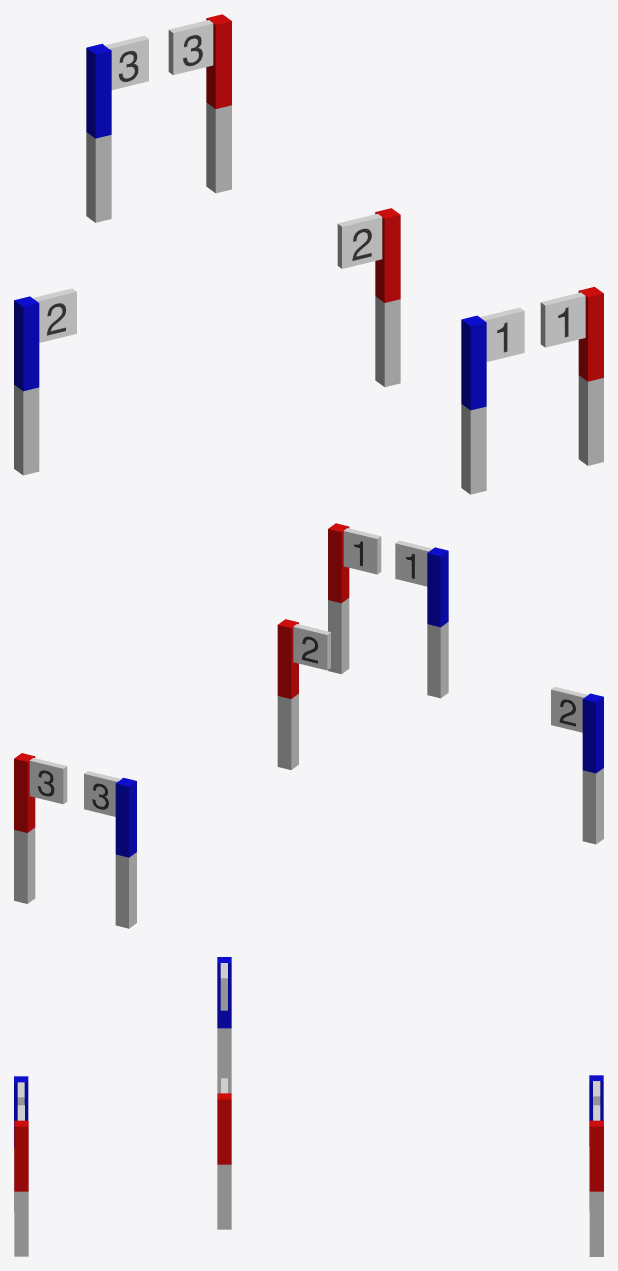
The model's file is R2C_frag.dae.
3 views of the same model, one above another, from view 1: azimuth 30°, elevation 25°; view 2: azimuth 150°, elevation 25°; view 3: azimuth 270°, elevation 25° (orthographic). The views are drawn at different scales.
Parts seen in each view (by area): view 1: Group5, Group12, Group14, Group4, Group7, Group10, Group3, Group13, Group9, Group2, Group11; view 2: Group5, Group14, Group12, Group7, Group4, Group10, Group3, Group13, Group9, Group2, Group11; view 3: Group3, Group7, Group10, Group5, Group14, Group12.
Boxes of the visible parts, x1,y1,x2,y2 form: Group5: (14,296,39,475); Group12: (86,43,111,222); Group14: (461,315,486,494); Group4: (168,20,382,268); Group7: (375,208,400,386); Group10: (206,14,231,193); Group3: (578,287,603,465); Group13: (540,292,585,347); Group9: (480,307,524,361); Group2: (32,288,76,342); Group11: (104,35,148,89); Group5: (582,693,603,844); Group14: (427,547,448,698); Group12: (115,777,136,928); Group7: (277,619,298,769); Group4: (29,624,330,804); Group10: (14,753,35,903); Group3: (328,523,349,674); Group13: (343,528,381,574); Group9: (395,540,432,586); Group2: (551,687,587,732); Group11: (84,771,121,816); Group3: (14,1120,28,1256); Group7: (217,1093,231,1229); Group10: (589,1120,603,1256); Group5: (217,957,231,1093); Group14: (14,1076,28,1211); Group12: (589,1075,603,1210).
Size of the model in its own units: 0.5585 by 0.8214 by 0.2.
